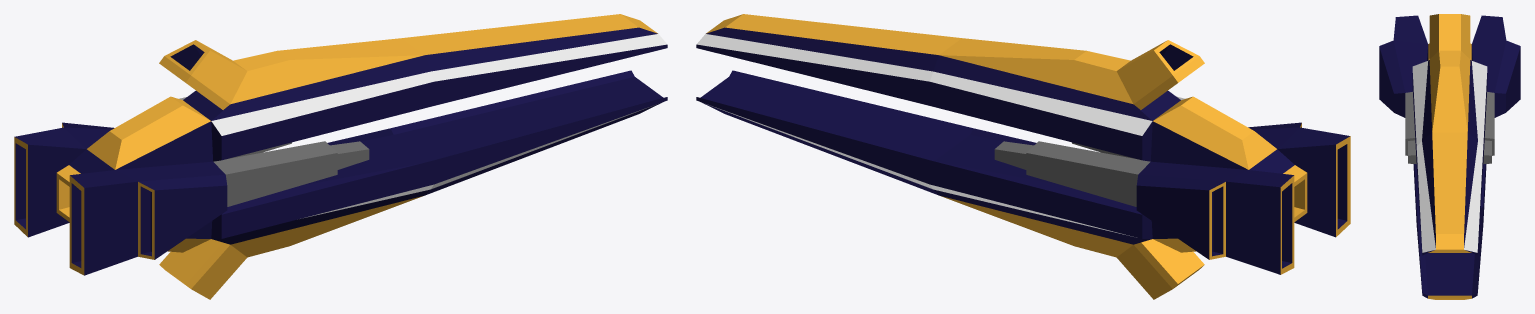
The model's file is ファンネル.fbx.
The picture shows the model from 3 angles, left to right: view 1: azimuth 30°, elevation 25°; view 2: azimuth 150°, elevation 25°; view 3: azimuth 270°, elevation 25°; orthographic projection. The views are drawn at different scales.
Visible parts, largest first — view 1: Cube; view 2: Cube; view 3: Cube.
Boxes of the visible parts, x1=… form: Cube: x1=14, y1=14, x2=667, y2=299; Cube: x1=696, y1=14, x2=1350, y2=299; Cube: x1=1379, y1=14, x2=1520, y2=299.
Size of the model in its own units: 1739 by 690 by 465.
